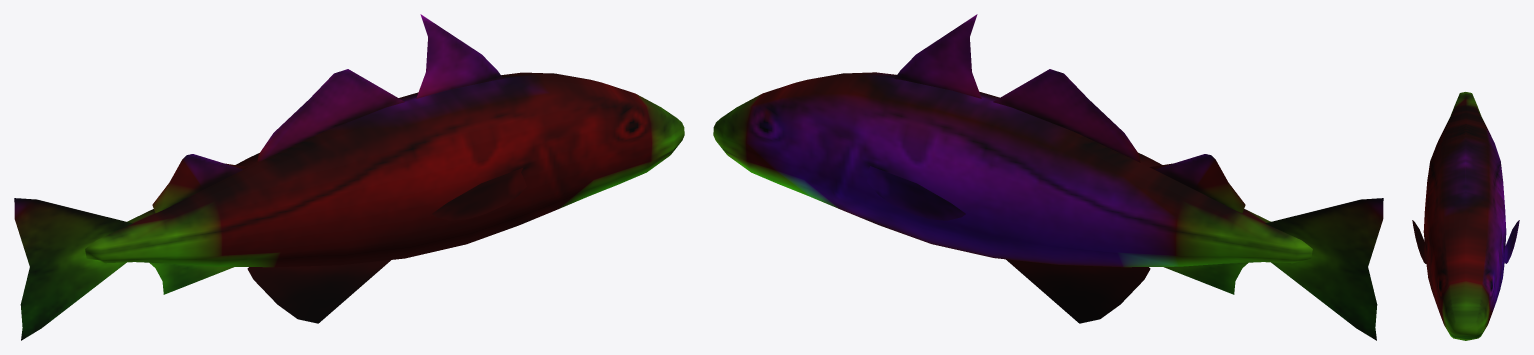
The model's file is haddock.glb.
3 views of the same model, side by side, from view 1: azimuth 30°, elevation 25°; view 2: azimuth 150°, elevation 25°; view 3: azimuth 270°, elevation 25° (orthographic). The views are drawn at different scales.
Parts seen in each view (by area): view 1: Haddock; view 2: Haddock; view 3: Haddock.
Boxes of the visible parts, box(x1,y1,x2,y2) form: Haddock: box(14, 14, 684, 340); Haddock: box(713, 14, 1383, 340); Haddock: box(1412, 92, 1519, 340).
Bounding box in the file's own units: 1 × 0.4079 × 0.1829.
Materials: 1 (1 with a texture image).
